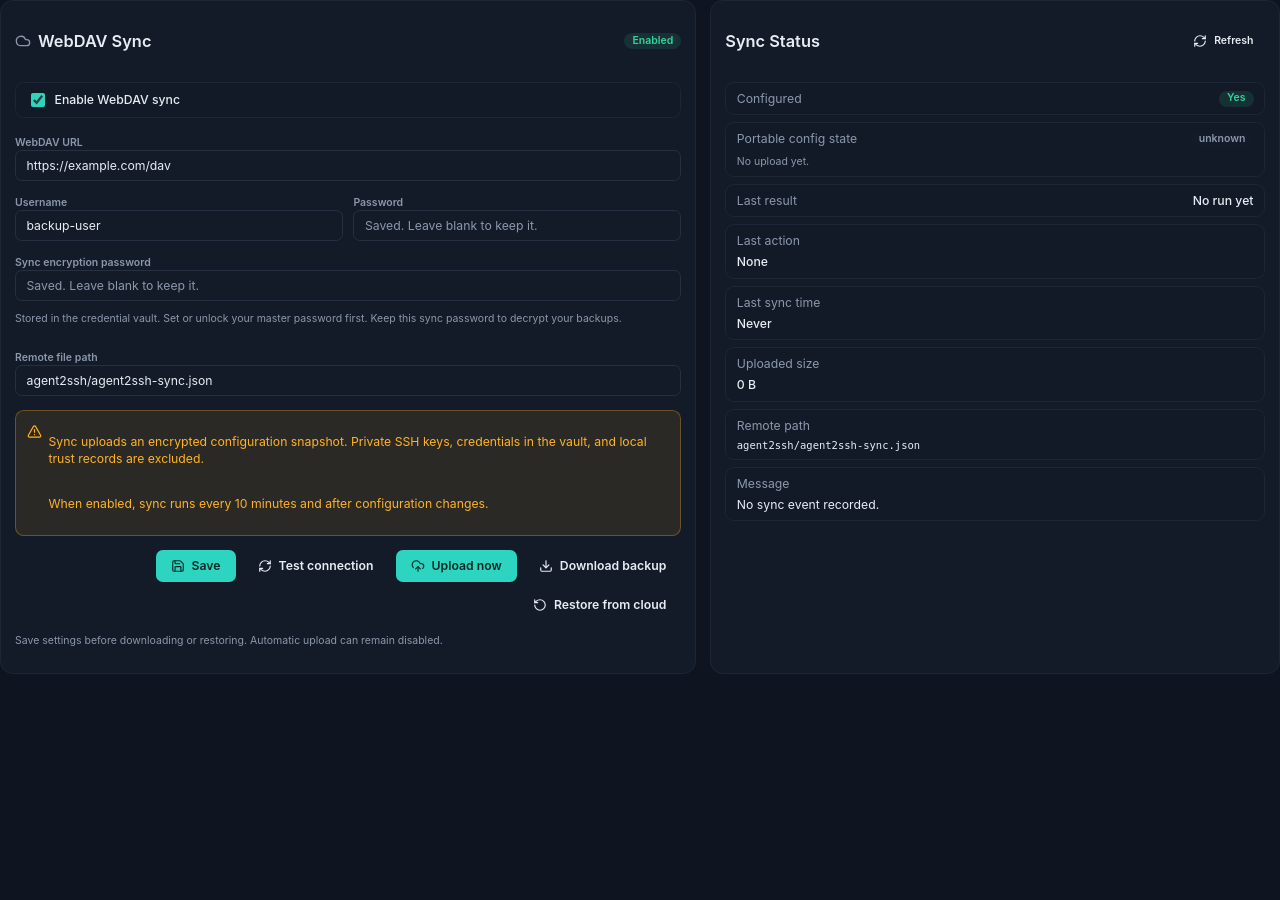
Test: SyncPanel encrypted upload settings › does not show success or refresh the app after a failed restore
expect the field labelled "WebDAV URL" holds "https://example.com/dav": met, box x1=15 y1=150 x2=681 y2=181
expect the button "Save" is enabled: met, box x1=156 y1=550 x2=236 y2=582
Click the button "Restore from cloud". click: (600, 605)
box: x1=518 y1=589 x2=681 y2=620
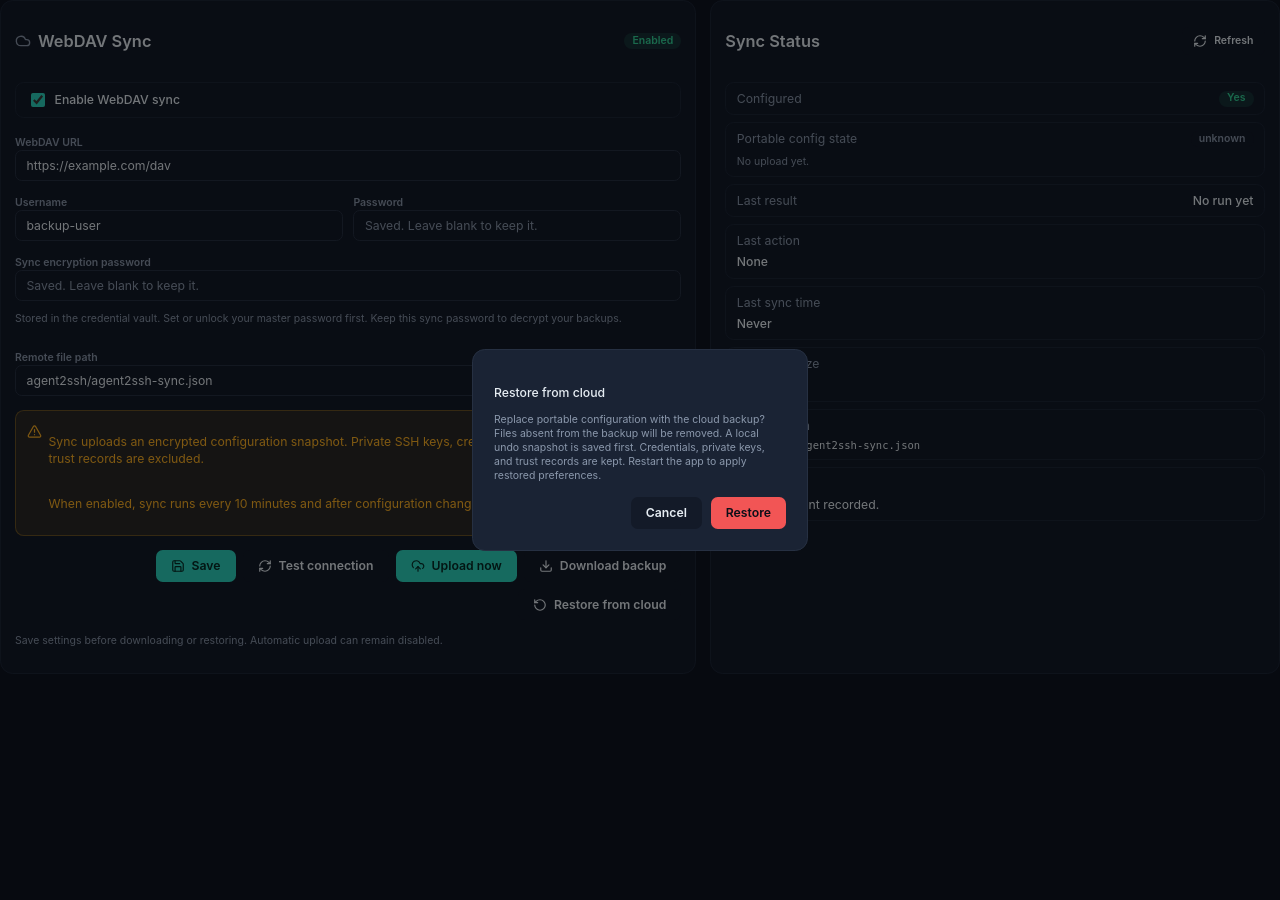
Click the button "Restore". click: (748, 513)
box: x1=711 y1=497 x2=786 y2=529
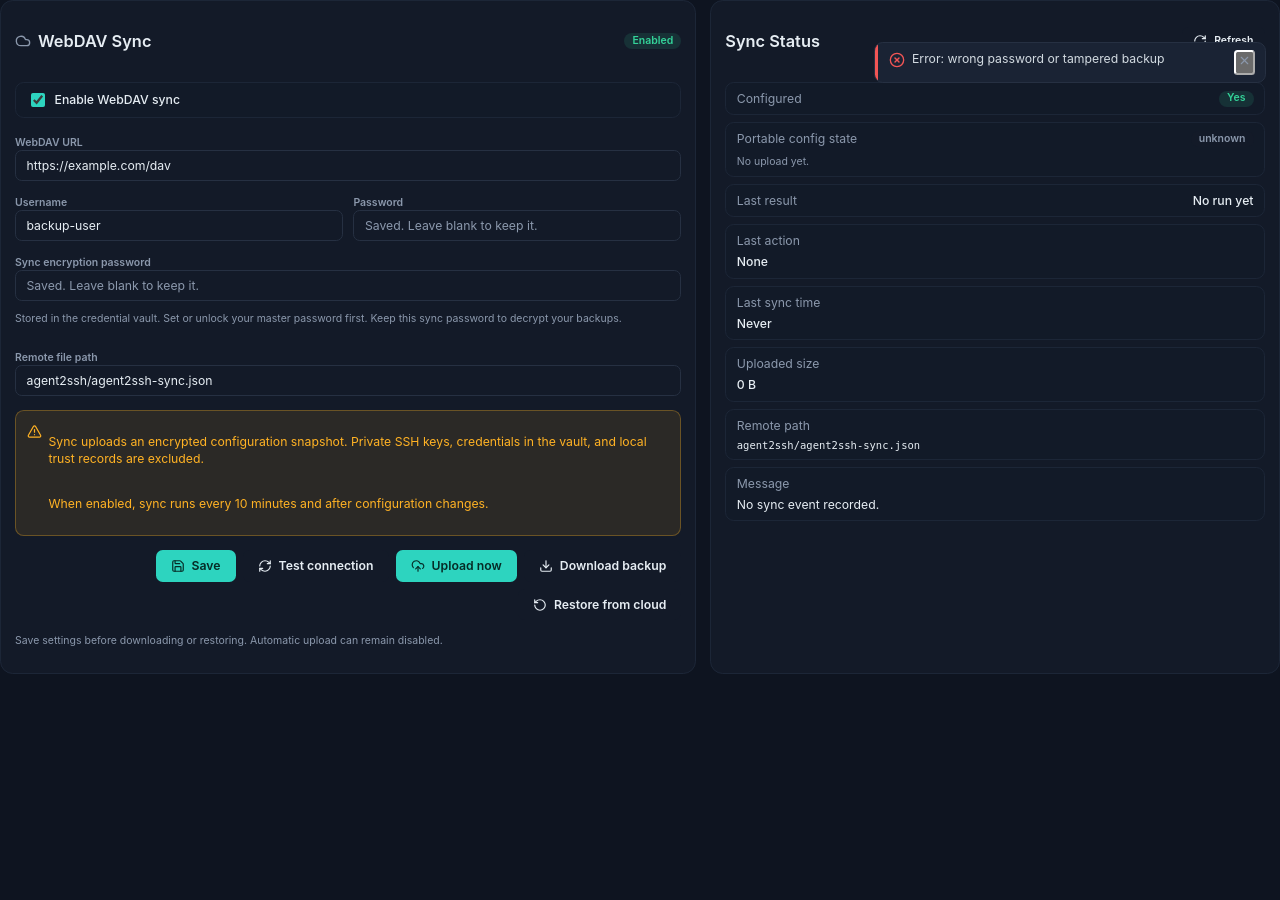
expect the text "Error: wrong password or tampered backup" is shown: met, box x1=912 y1=51 x2=1165 y2=66
